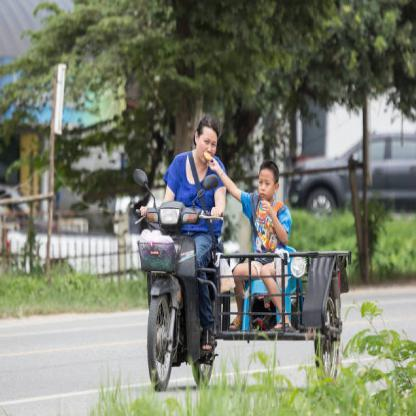Motorcycle: (127, 165, 216, 391)
